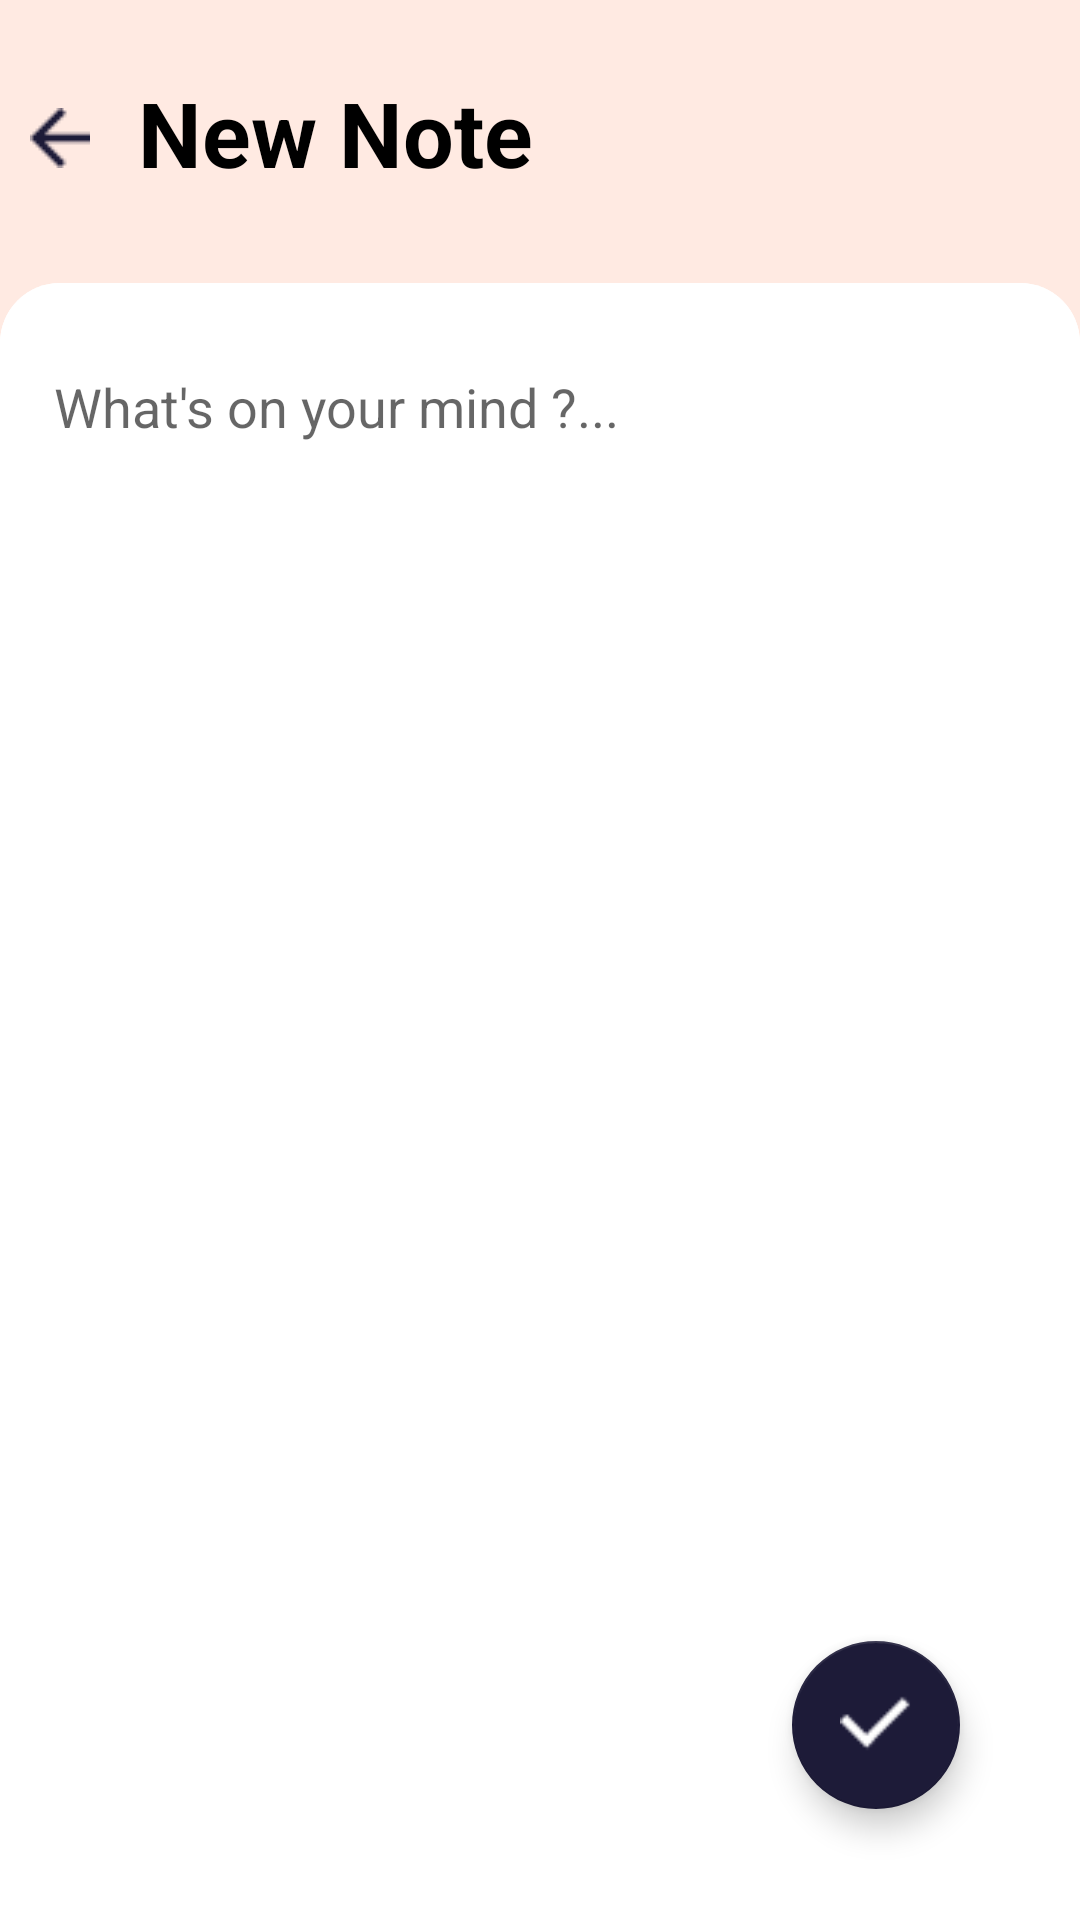

Where icons sit on this 1080 x 1920 app screen, as (x1, y1, x2, y2):
back: (30, 108, 90, 168)
yes: (792, 1641, 960, 1809)
